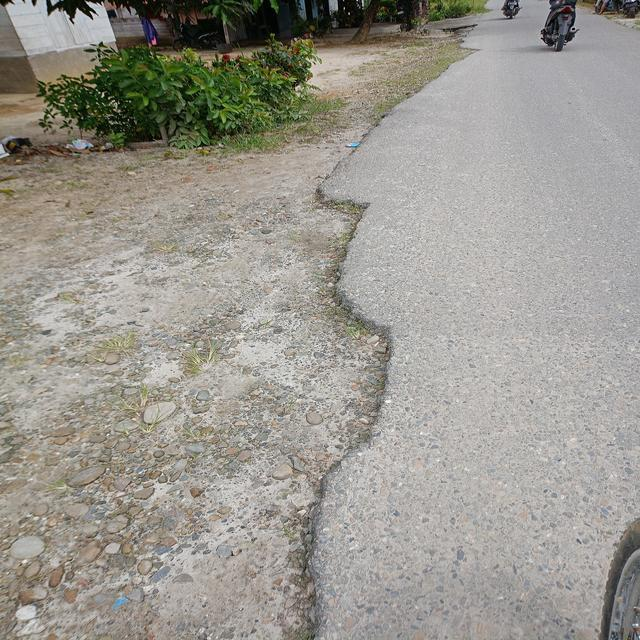Pinggir: (278, 129, 409, 640)
